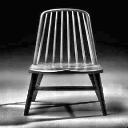chair_success: (18, 3, 116, 121)
